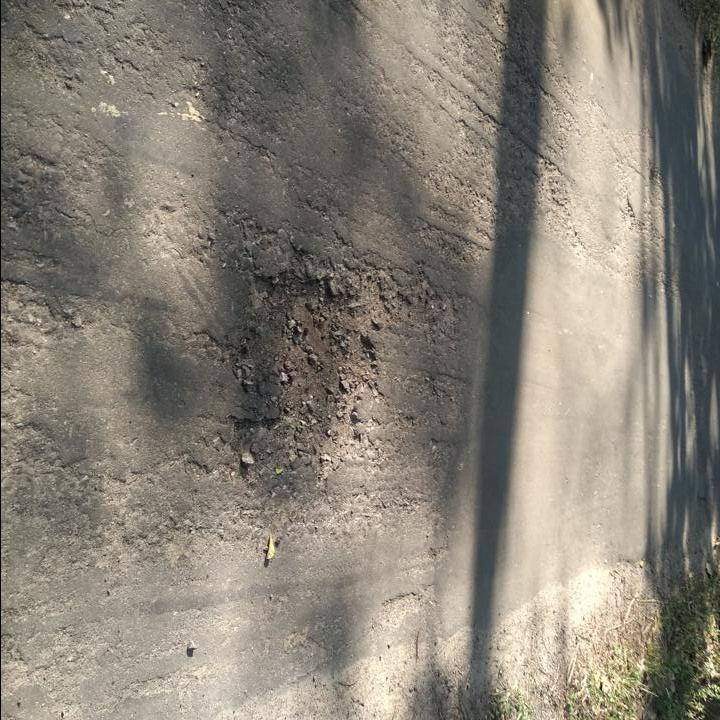pothole: (229, 261, 384, 474)
